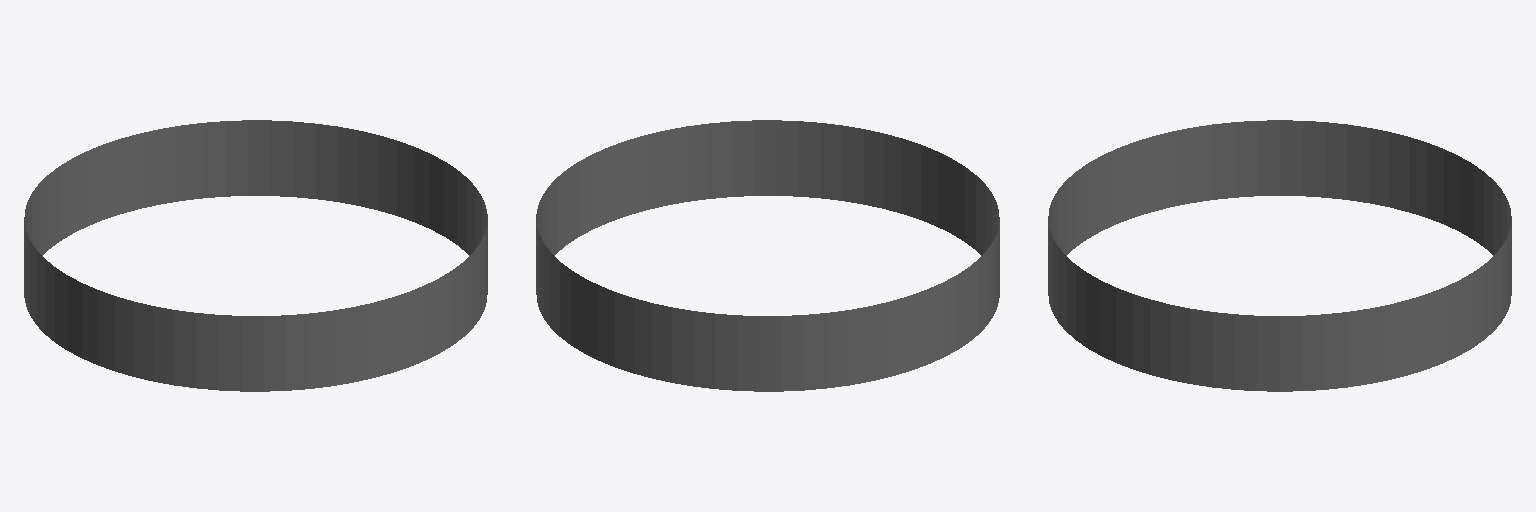
The model's file is Test_ranged_Cylinder.obj.
3 renders of one model, left to right at view 1: azimuth 30°, elevation 25°; view 2: azimuth 150°, elevation 25°; view 3: azimuth 270°, elevation 25°, orthographic.
Parts seen in each view (by area): view 1: pCylinder2_Mesh.002; view 2: pCylinder2_Mesh.002; view 3: pCylinder2_Mesh.002.
Boxes of the visible parts, <box> form: pCylinder2_Mesh.002: <box>24,120,487,391</box>; pCylinder2_Mesh.002: <box>536,120,999,391</box>; pCylinder2_Mesh.002: <box>1048,120,1511,391</box>.
Bounding box in the file's own units: 3 × 0.54 × 3.